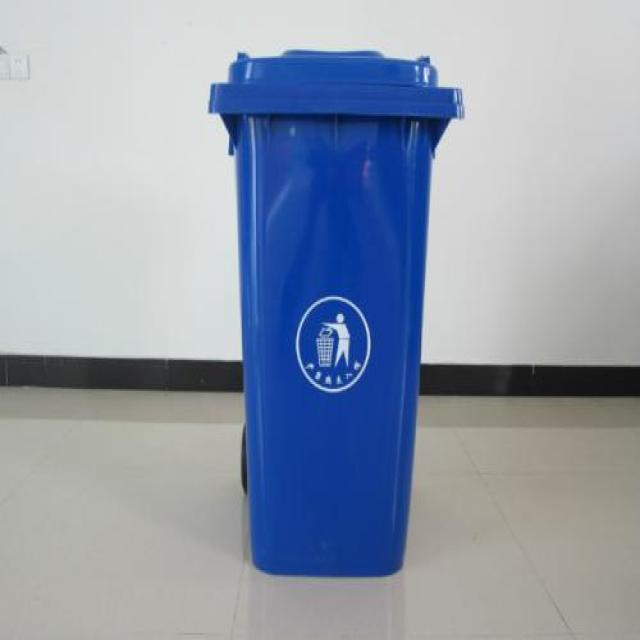garbage_bin: (206, 48, 463, 573)
